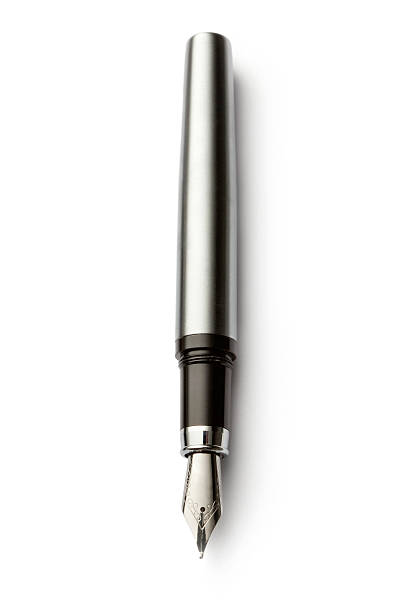pen: (165, 21, 260, 568)
